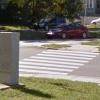Crosswalk: (21, 38, 92, 86)
